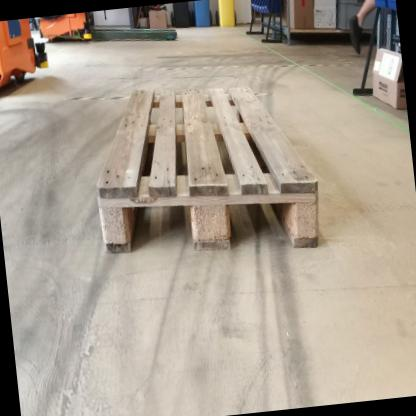BoxFace: (88, 80, 326, 262)
